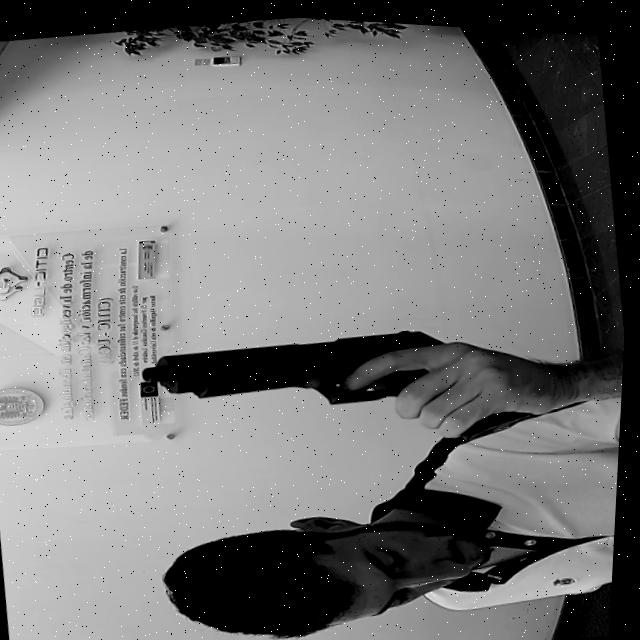pistol: (137, 303, 473, 435)
